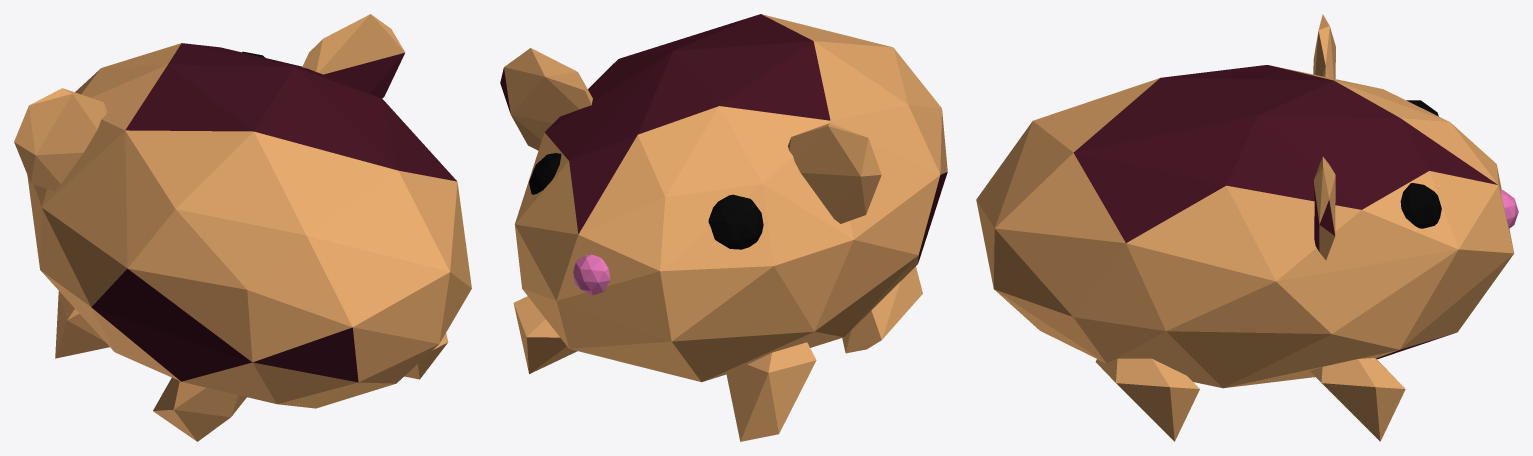
The model's file is krecek.gltf.
3 renders of one model, left to right at view 1: azimuth 30°, elevation 25°; view 2: azimuth 150°, elevation 25°; view 3: azimuth 270°, elevation 25°, orthographic. The views are drawn at different scales.
Visible parts, largest first — view 1: Icosphere.003; view 2: Icosphere.003; view 3: Icosphere.003.
Part boxes in pixels (x1,y1,x2,y2): Icosphere.003: [14, 14, 471, 441]; Icosphere.003: [500, 14, 947, 441]; Icosphere.003: [976, 14, 1518, 441].
Size of the model in its own units: 2.48 by 1.87 by 3.14.
